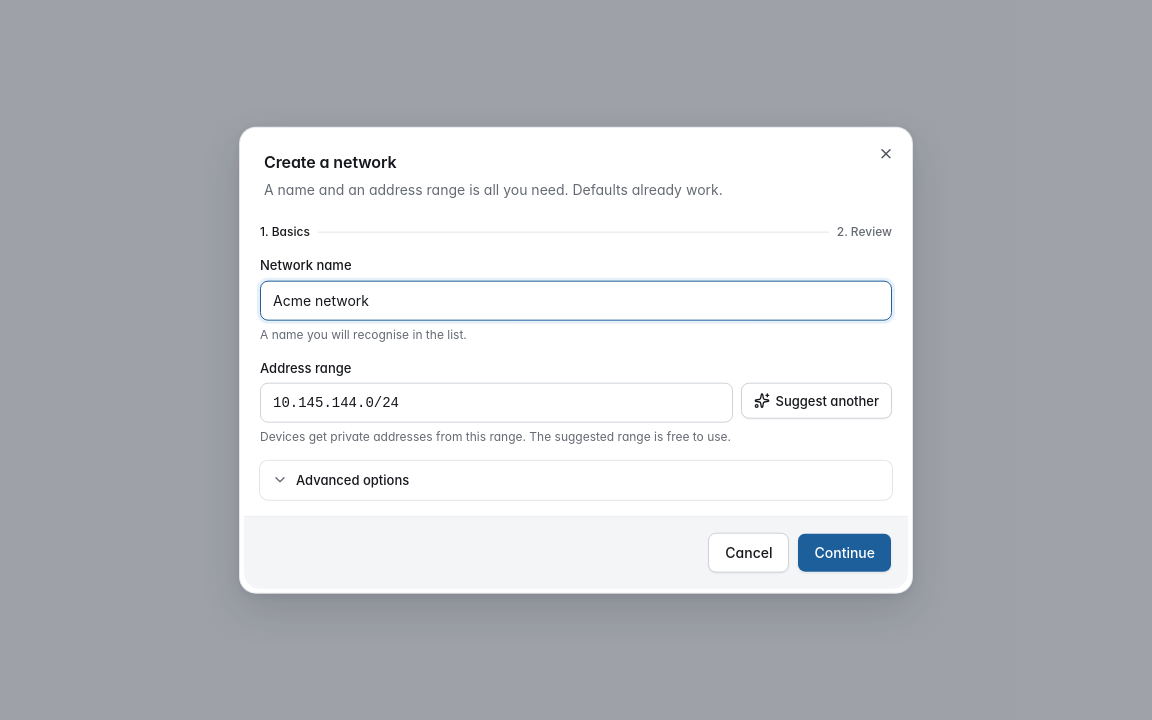
Test: NewNetworkDialog › explains an invalid range in plain words and blocks Continue
The image size is (1152, 720).
Replace the text in the field labelled "Address range" with "8.8.8.0/24" at [496, 403], box [260, 383, 732, 423]
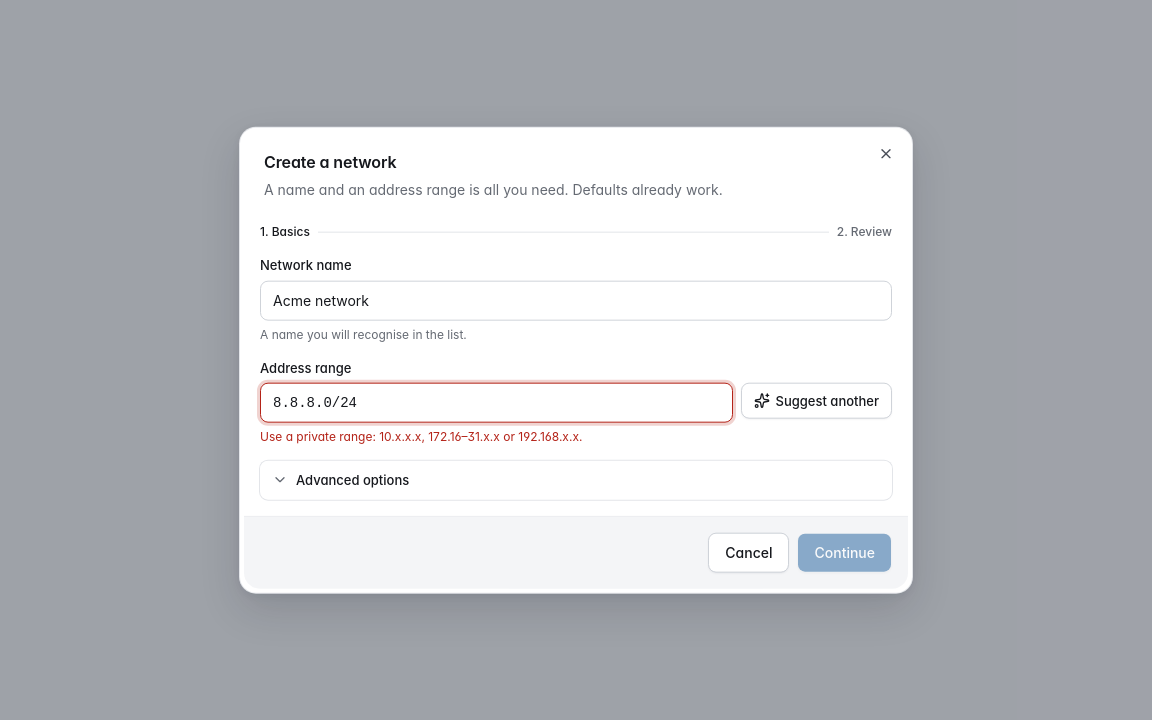
Expected: the button "Continue" is disabled, [798, 532, 892, 572]
Expected: the text "Use a private range: 10.x.x.x, 172.16–31.x.x or 192.168.x.x." is shown, [260, 429, 582, 444]
